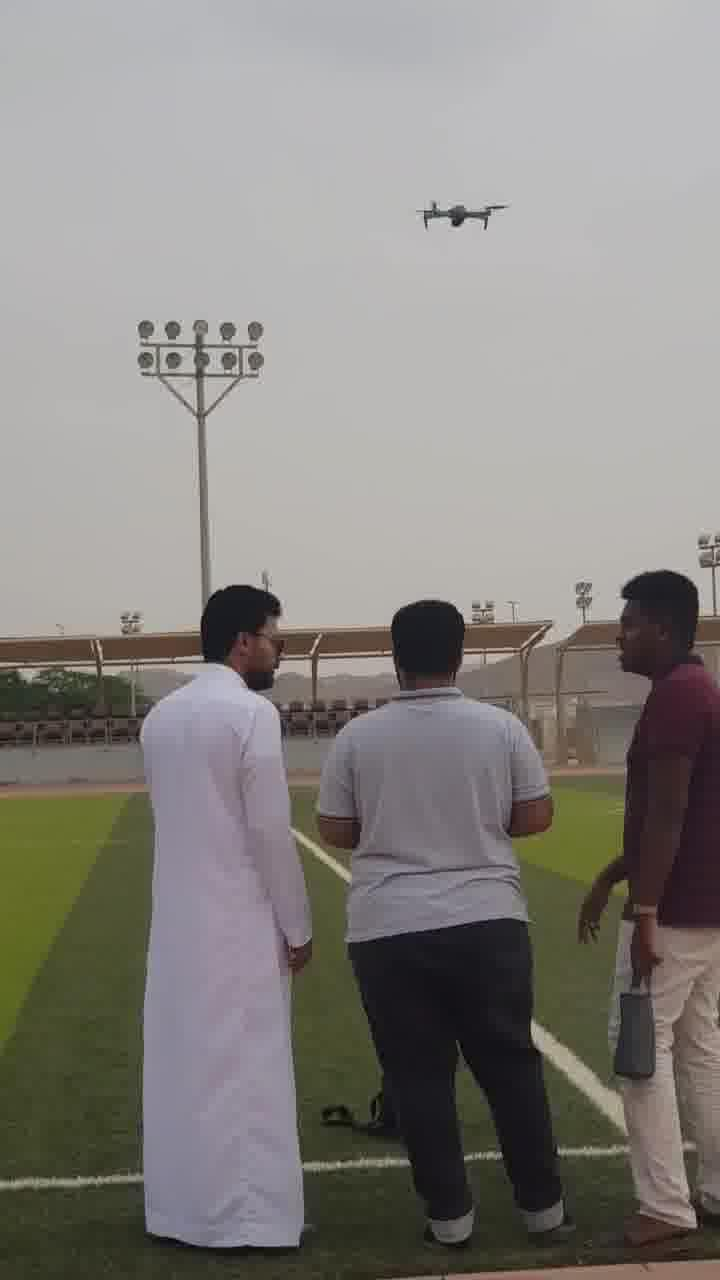drone: (402, 190, 515, 244)
